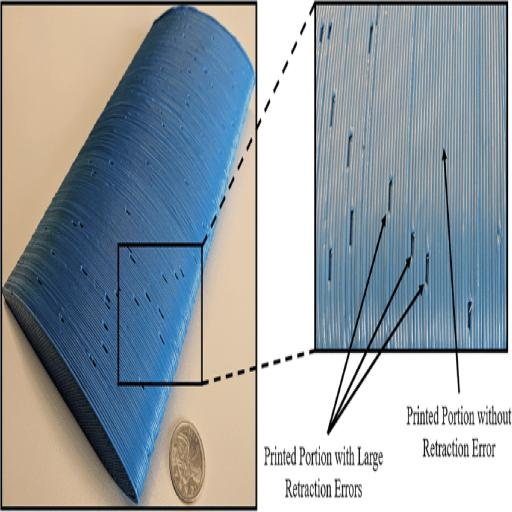cracks: (27, 199, 113, 399), (121, 242, 188, 366), (117, 208, 139, 225)
